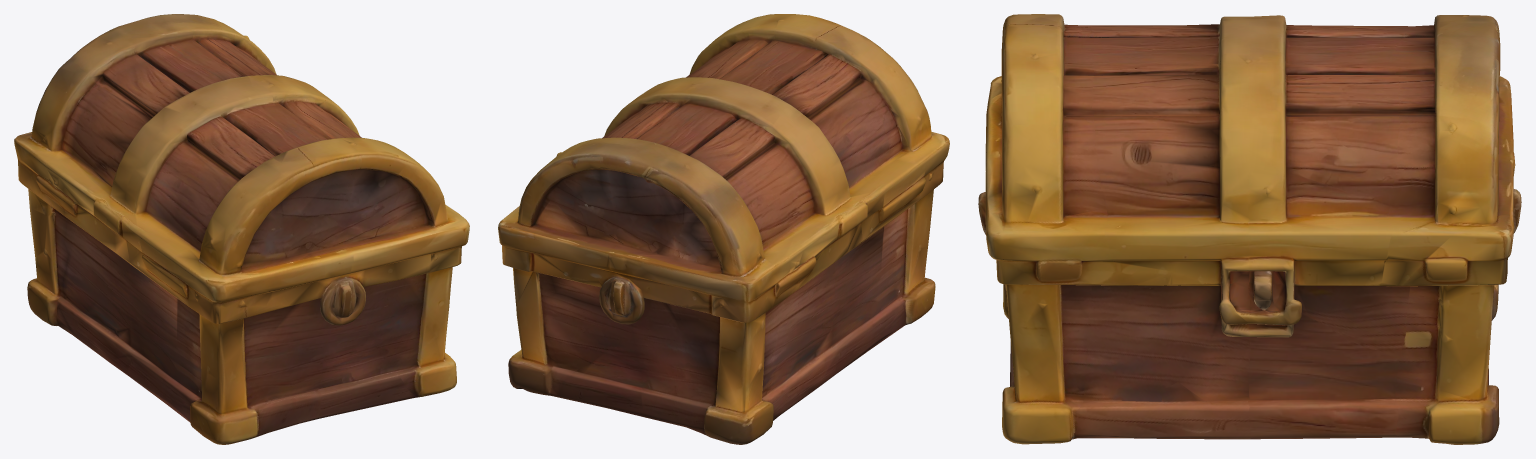
The model's file is wooden-treasure-chest-with-gold-trim-closed-lid-ga.glb.
3 renders of one model, left to right at view 1: azimuth 30°, elevation 25°; view 2: azimuth 150°, elevation 25°; view 3: azimuth 270°, elevation 25°, orthographic. The views are drawn at different scales.
Visible parts, largest first — view 1: tripo_node_ab5df3fe-5b0d-4bd7-9d5c-6ab159c62a5d; view 2: tripo_node_ab5df3fe-5b0d-4bd7-9d5c-6ab159c62a5d; view 3: tripo_node_ab5df3fe-5b0d-4bd7-9d5c-6ab159c62a5d.
Boxes of the visible parts, bbox=[...] form: tripo_node_ab5df3fe-5b0d-4bd7-9d5c-6ab159c62a5d: bbox=[14, 14, 469, 444]; tripo_node_ab5df3fe-5b0d-4bd7-9d5c-6ab159c62a5d: bbox=[498, 14, 949, 444]; tripo_node_ab5df3fe-5b0d-4bd7-9d5c-6ab159c62a5d: bbox=[978, 14, 1521, 444].
Size of the model in its own units: 0.7425 by 0.6894 by 0.9997.
1 material, 1 textured.
